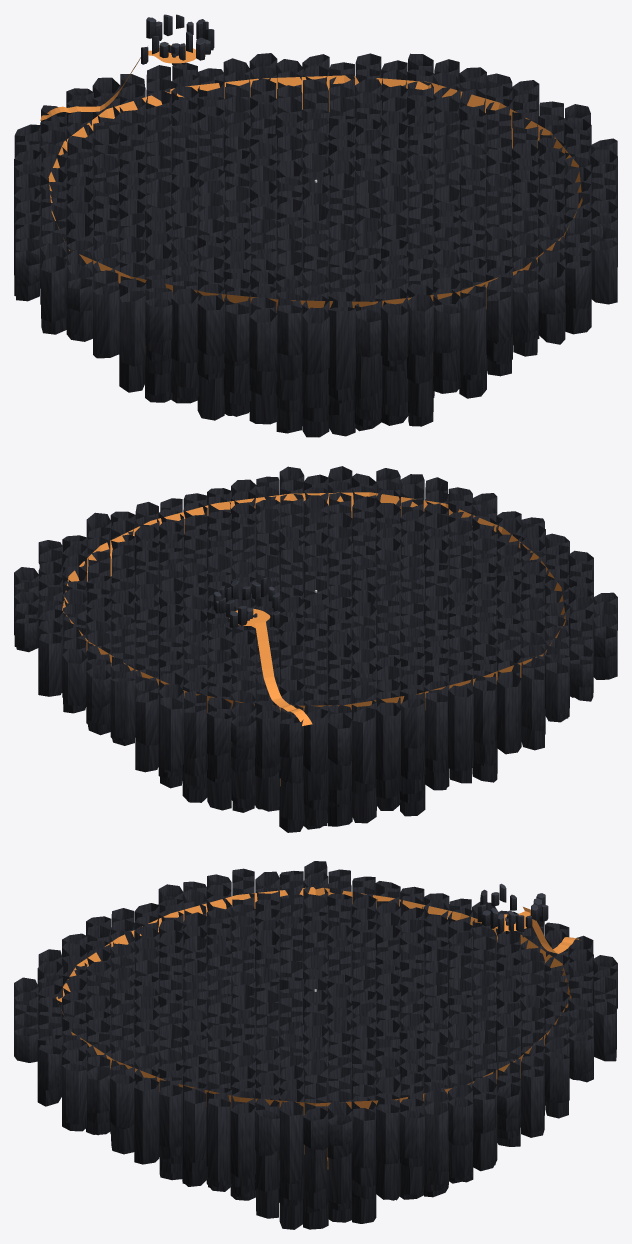
File: EmberPeak_Island.fbx
3 renders of one model, top to bottom at view 1: azimuth 30°, elevation 25°; view 2: azimuth 150°, elevation 25°; view 3: azimuth 270°, elevation 25°, orthographic. The views are drawn at different scales.
Parts seen in each view (by area): view 1: EP_UnderColumns, EP_MagmaCore, EP_CraterCrown; view 2: EP_UnderColumns, EP_MagmaCore, EP_CraterCrown, EP_LavaRiver; view 3: EP_UnderColumns, EP_MagmaCore, EP_CraterCrown.
Part boxes in pixels (x1=…): EP_UnderColumns: x1=14, y1=53, x2=617, y2=437; EP_MagmaCore: x1=48, y1=75, x2=582, y2=312; EP_CraterCrown: x1=141, y1=14, x2=214, y2=64; EP_UnderColumns: x1=14, y1=466, x2=617, y2=832; EP_MagmaCore: x1=62, y1=492, x2=565, y2=785; EP_CraterCrown: x1=213, y1=577, x2=280, y2=628; EP_LavaRiver: x1=255, y1=622, x2=312, y2=725; EP_UnderColumns: x1=14, y1=861, x2=617, y2=1229; EP_MagmaCore: x1=56, y1=887, x2=571, y2=1169; EP_CraterCrown: x1=477, y1=883, x2=548, y2=933.
Bounding box in the file's own units: 314 × 171 × 304.
1 material, 1 textured.
